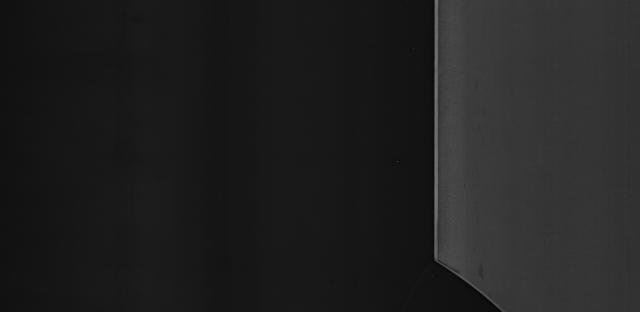crescent_gap: (428, 244, 526, 312)
